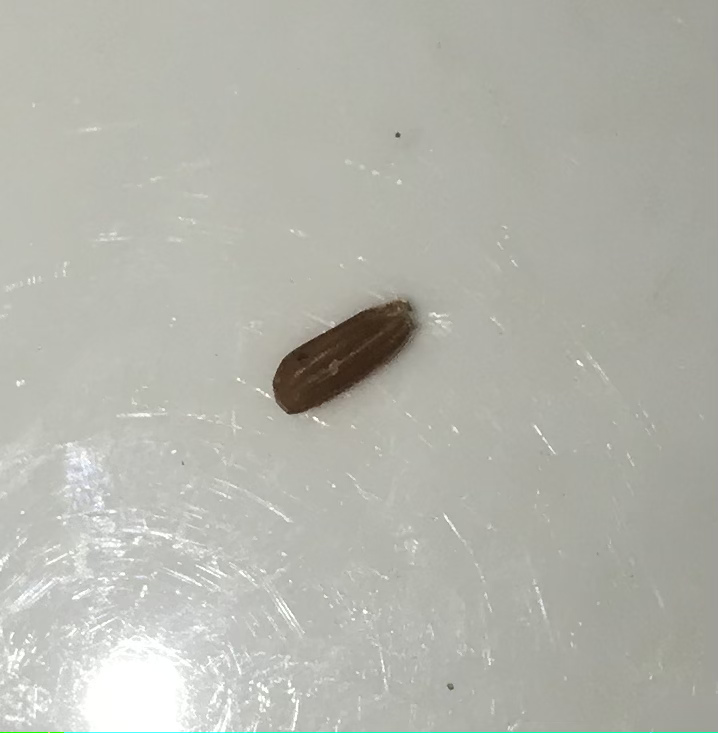Gao Lut Do: (270, 294, 420, 428)
